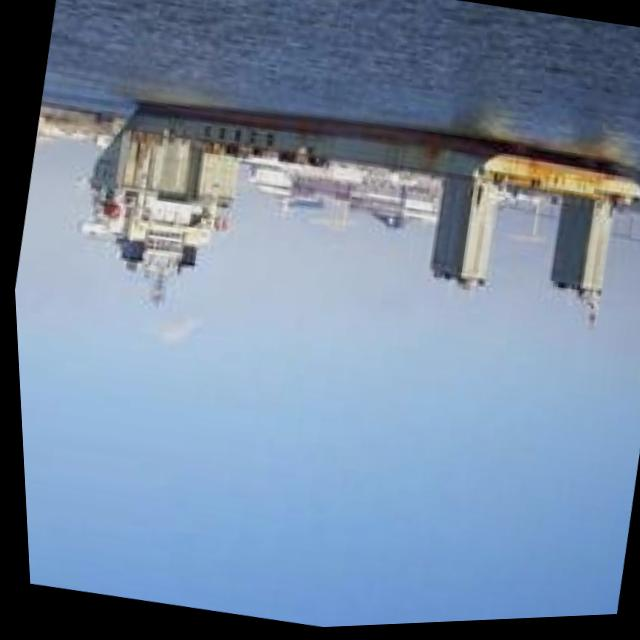ship2: (77, 102, 640, 337)
